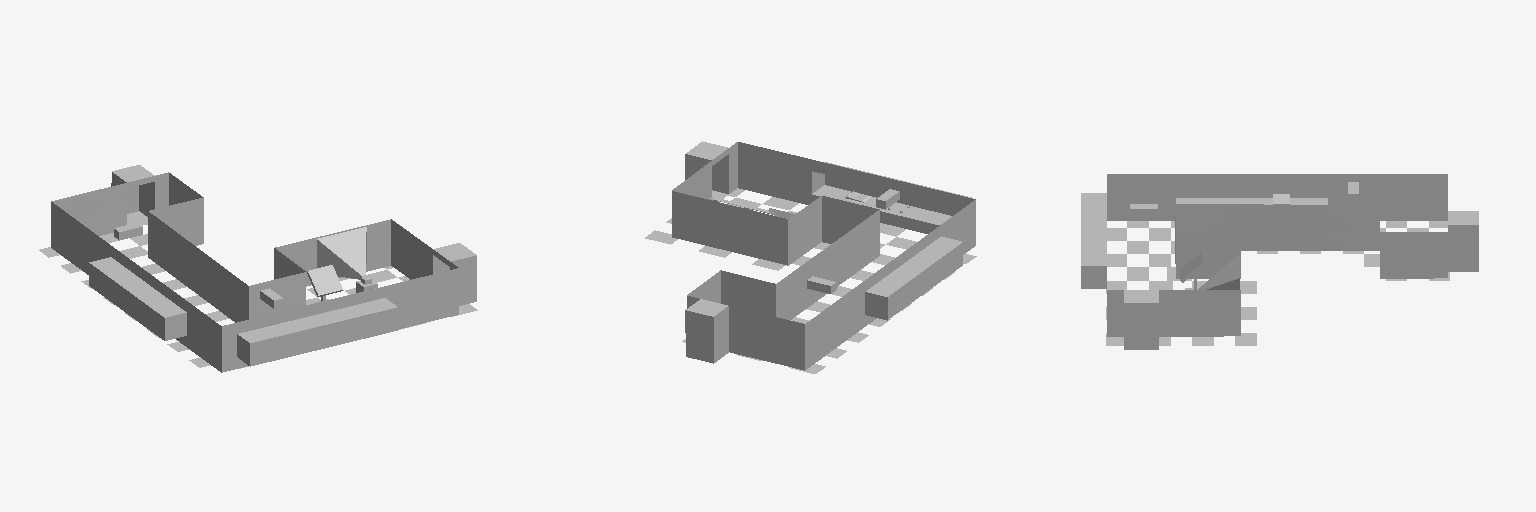
Rendered from _GAL.obj.
The picture shows the model from 3 angles: view 1: azimuth 30°, elevation 25°; view 2: azimuth 150°, elevation 25°; view 3: azimuth 270°, elevation 25°; orthographic projection.
Visible parts, largest first — view 1: TMD object #0, VRAM page #6, TMD object #0, VRAM page #7, TMD object #2, untextured, TMD object #0, untextured, TMD object #2, VRAM page #6, TMD object #3, untextured, TMD object #0, VRAM page #5; view 2: TMD object #0, VRAM page #6, TMD object #0, VRAM page #7, TMD object #2, untextured, TMD object #0, untextured, TMD object #3, untextured, TMD object #2, VRAM page #6, TMD object #0, VRAM page #5; view 3: TMD object #0, VRAM page #7, TMD object #0, untextured, TMD object #0, VRAM page #6, TMD object #3, untextured, TMD object #2, untextured, TMD object #2, VRAM page #6.
Part boxes in pixels (bbox=[...]): TMD object #0, VRAM page #6: bbox=[51, 172, 458, 372]; TMD object #0, VRAM page #7: bbox=[51, 173, 458, 360]; TMD object #2, untextured: bbox=[89, 263, 397, 366]; TMD object #0, untextured: bbox=[111, 165, 476, 308]; TMD object #2, VRAM page #6: bbox=[89, 257, 396, 342]; TMD object #3, untextured: bbox=[39, 224, 477, 368]; TMD object #0, VRAM page #5: bbox=[308, 226, 371, 295]; TMD object #0, VRAM page #6: bbox=[672, 142, 975, 370]; TMD object #0, VRAM page #7: bbox=[672, 142, 975, 358]; TMD object #2, untextured: bbox=[812, 171, 972, 320]; TMD object #0, untextured: bbox=[685, 141, 898, 363]; TMD object #3, untextured: bbox=[645, 188, 976, 373]; TMD object #2, VRAM page #6: bbox=[824, 162, 971, 296]; TMD object #0, VRAM page #5: bbox=[700, 198, 793, 242]; TMD object #0, VRAM page #7: bbox=[1107, 174, 1447, 324]; TMD object #0, untextured: bbox=[1124, 182, 1478, 349]; TMD object #0, VRAM page #6: bbox=[1107, 209, 1447, 336]; TMD object #3, untextured: bbox=[1106, 221, 1449, 345]; TMD object #2, untextured: bbox=[1081, 186, 1327, 288]; TMD object #2, VRAM page #6: bbox=[1081, 193, 1106, 265].
Bounding box in the file's own units: 193 × 30.69 × 232.